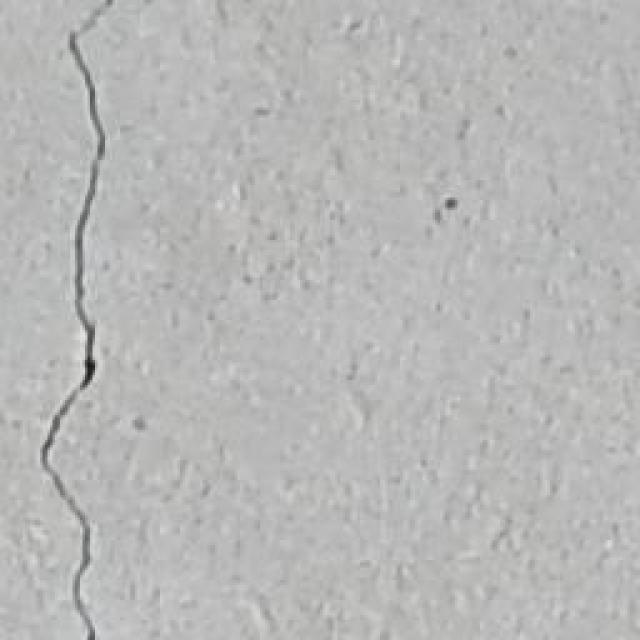concrete-crack: (37, 0, 124, 640)
